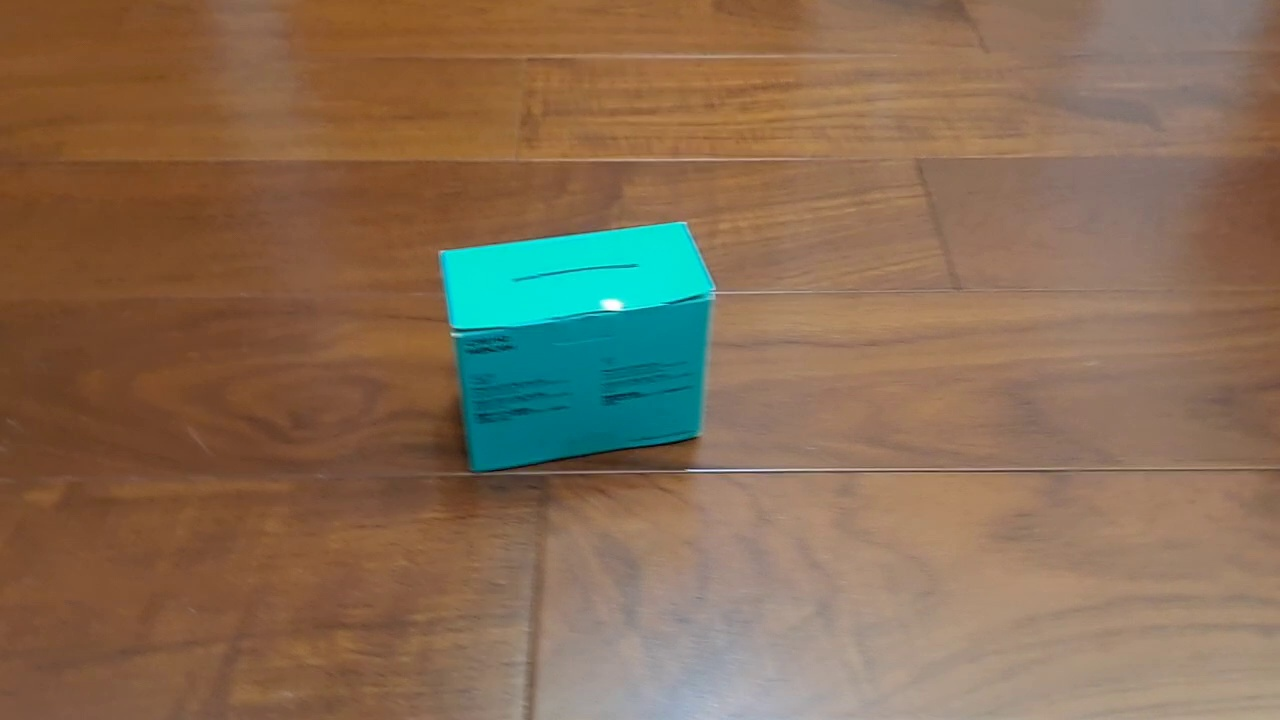webcam: (436, 220, 718, 475)
